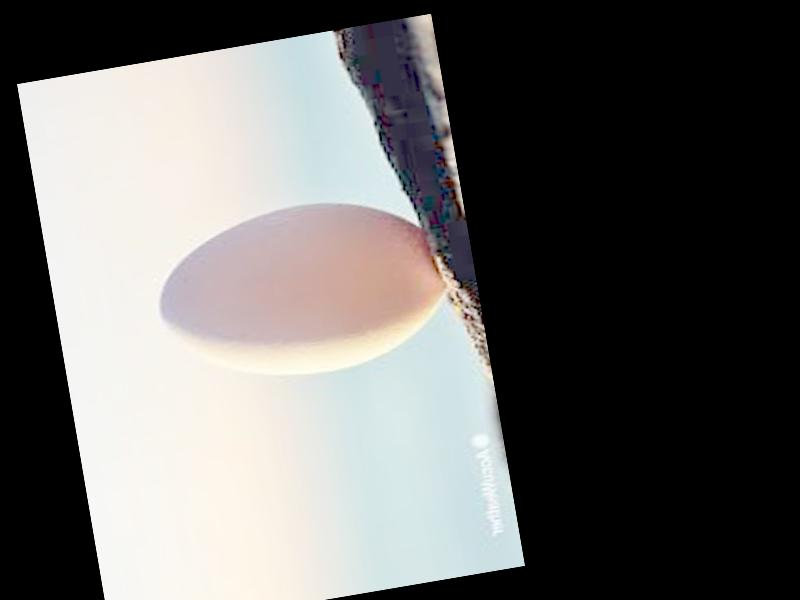Eggs: (143, 183, 453, 398)
